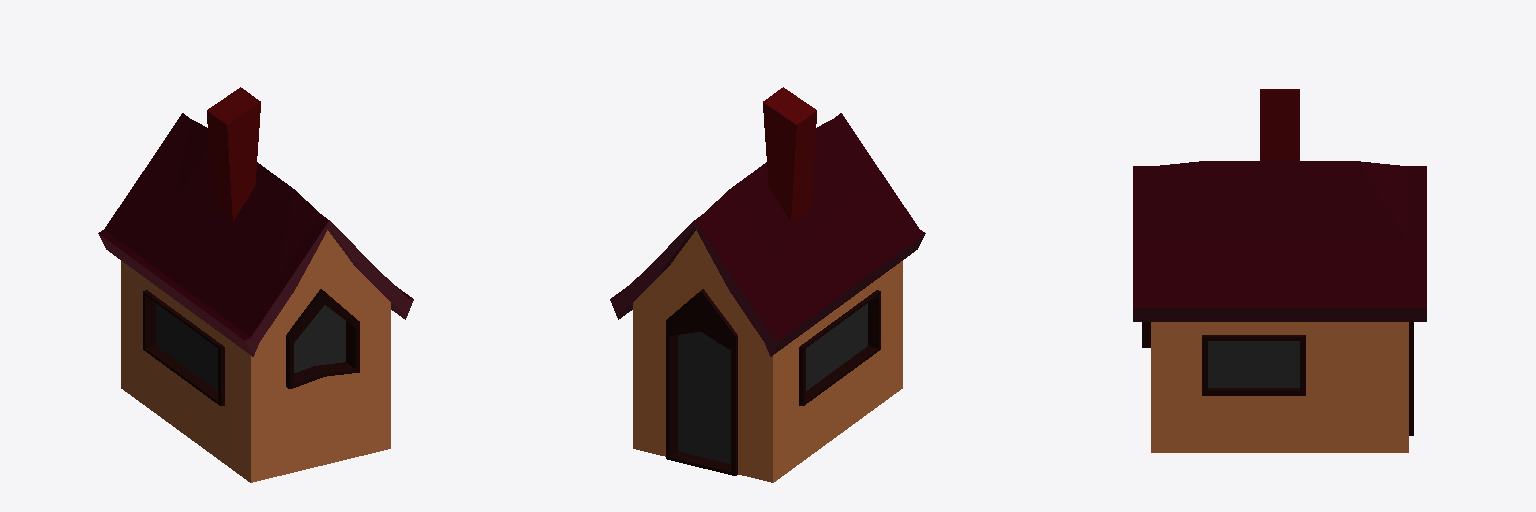
The model's file is Huisje.obj.
3 views of the same model, side by side, from view 1: azimuth 30°, elevation 25°; view 2: azimuth 150°, elevation 25°; view 3: azimuth 270°, elevation 25° (orthographic).
Parts seen in each view (by area): view 1: pCube5; view 2: pCube5; view 3: pCube5.
Boxes of the visible parts, box(x1,y1,x2,y2) form: pCube5: box(98, 87, 413, 482); pCube5: box(610, 87, 925, 482); pCube5: box(1133, 89, 1426, 452).
Bounding box in the file's own units: 5.58 × 10.24 × 8.39.